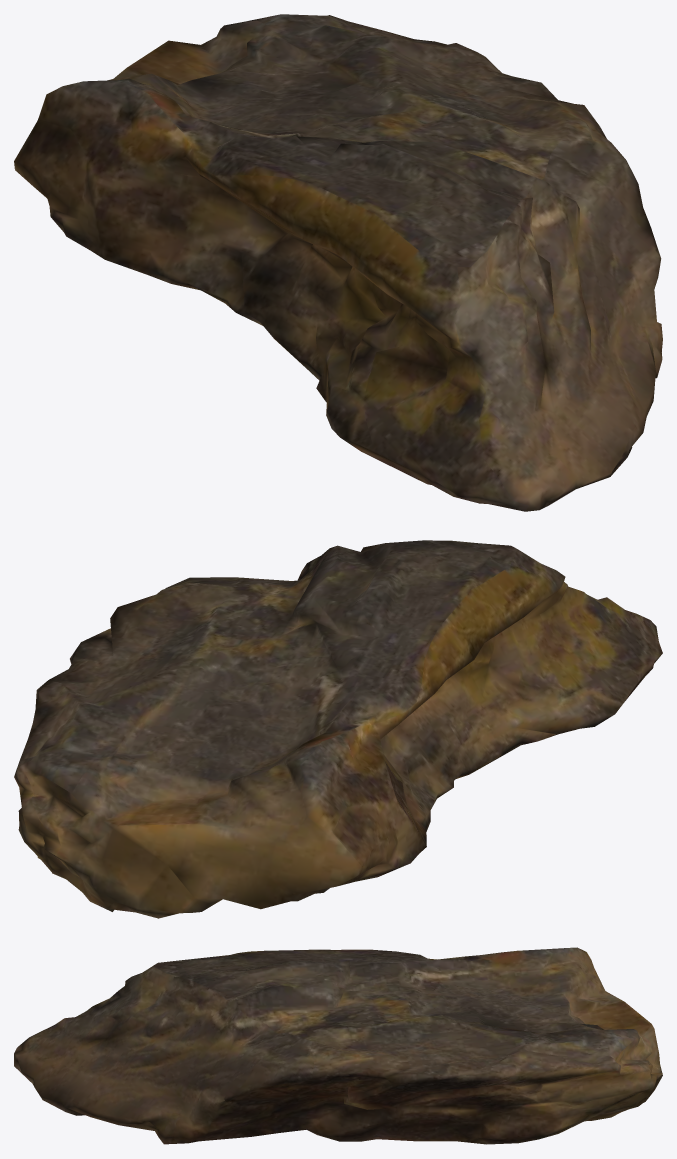
File: rock_09.glb
3 views of the same model, one above another, from view 1: azimuth 30°, elevation 25°; view 2: azimuth 150°, elevation 25°; view 3: azimuth 270°, elevation 25° (orthographic). The views are drawn at different scales.
Parts seen in each view (by area): view 1: rock_09_LOD0; view 2: rock_09_LOD0; view 3: rock_09_LOD0.
Part boxes in pixels (x1,y1,x2,y2): rock_09_LOD0: (14,14,662,511); rock_09_LOD0: (14,540,662,918); rock_09_LOD0: (14,947,662,1144).
Bounding box in the file's own units: 0.0739 × 0.0326 × 0.1446.
1 material, 1 textured.
